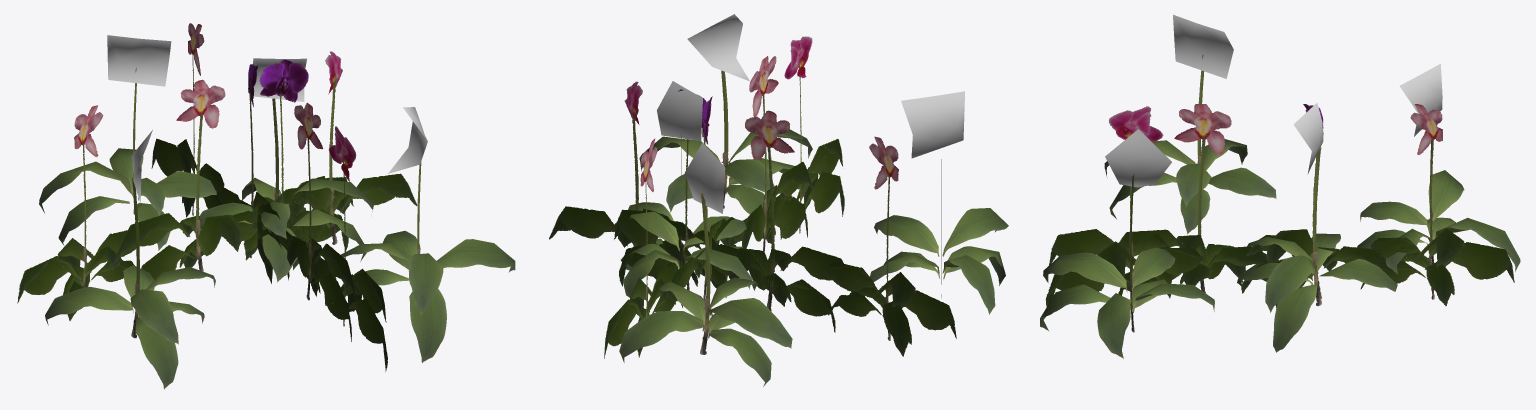
File: Grass9.fbx
The picture shows the model from 3 angles, left to right: view 1: azimuth 30°, elevation 25°; view 2: azimuth 150°, elevation 25°; view 3: azimuth 270°, elevation 25°; orthographic projection. The views are drawn at different scales.
Parts seen in each view (by area): view 1: Billboard, LOD0; view 2: LOD0, Billboard; view 3: LOD0, Billboard.
Boxes of the visible parts, x1=… form: Billboard: x1=17, y1=23, x2=417, y2=371; LOD0: x1=39, y1=35, x2=515, y2=389; LOD0: x1=619, y1=14, x2=1008, y2=386; Billboard: x1=549, y1=36, x2=956, y2=358; LOD0: x1=1040, y1=14, x2=1520, y2=358; Billboard: x1=1045, y1=104, x2=1514, y2=309.
Size of what is drawn, in the model's own units: 223 by 114 by 228.
